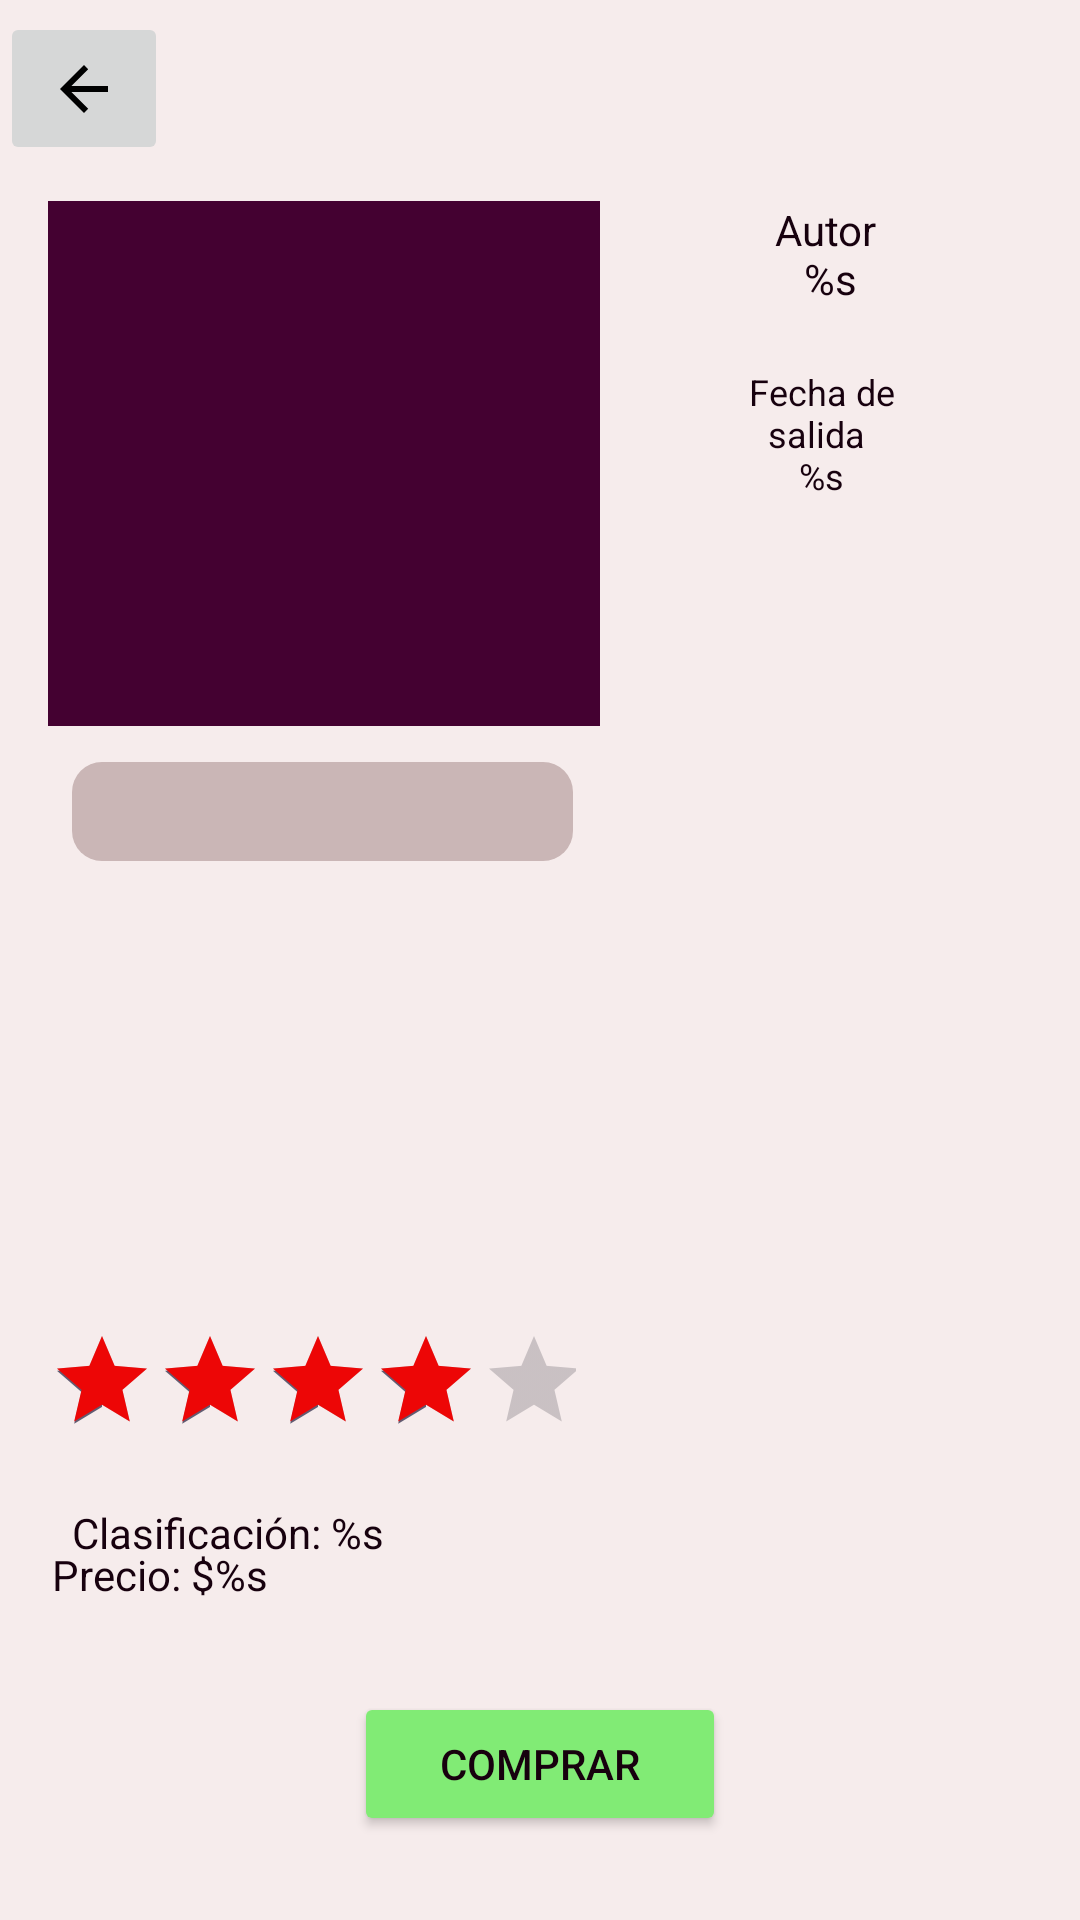

Icon click points for this 1080w x 1920h phone screenshot, format (x,y):
Boton para volver: (84,88)
